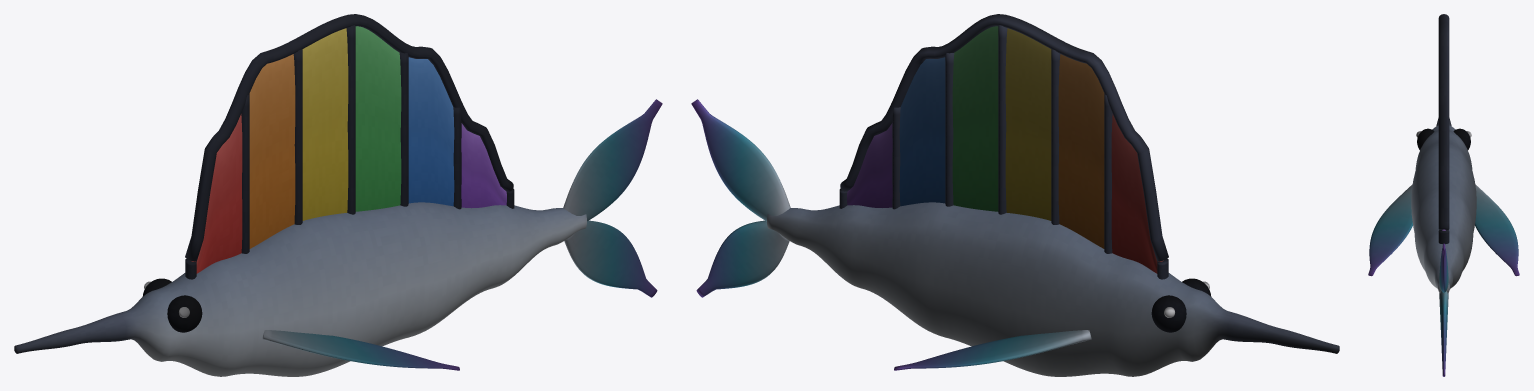
The model's file is Prism_Sailfish.glb.
The picture shows the model from 3 angles, left to right: view 1: azimuth 30°, elevation 25°; view 2: azimuth 150°, elevation 25°; view 3: azimuth 270°, elevation 25°; orthographic projection. The views are drawn at different scales.
Parts seen in each view (by area): view 1: Prism_Sailfish; view 2: Prism_Sailfish; view 3: Prism_Sailfish.
Boxes of the visible parts, bbox=[...] form: Prism_Sailfish: bbox=[14, 14, 662, 376]; Prism_Sailfish: bbox=[691, 14, 1339, 376]; Prism_Sailfish: bbox=[1368, 14, 1519, 376].
Size of the model in its own units: 1.22 by 0.6421 by 0.3616.
